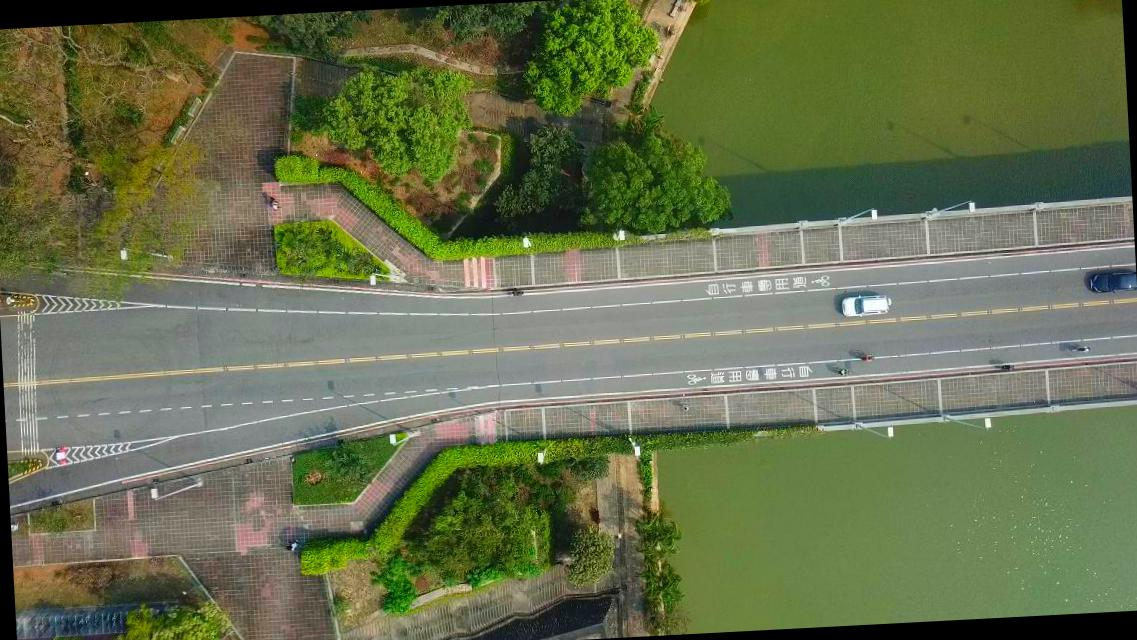vehicle: (840, 293, 891, 318), (1088, 270, 1136, 296)
